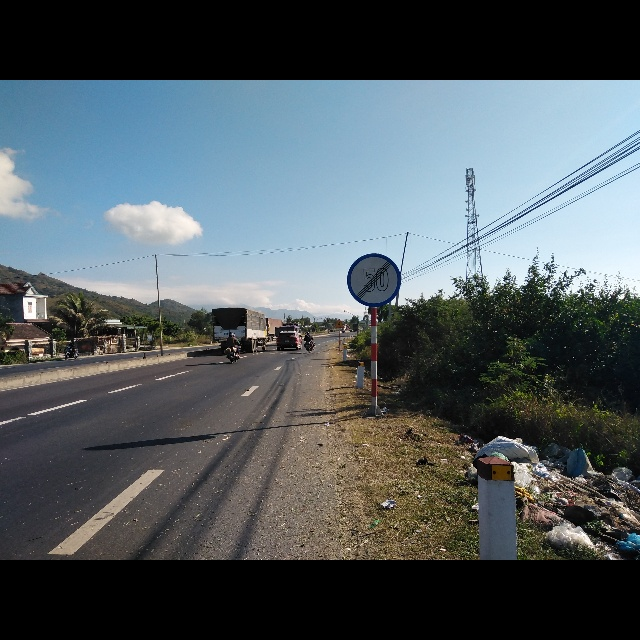Hết hạn chế tốc độ tối đa 50km/h: (345, 251, 403, 311)
